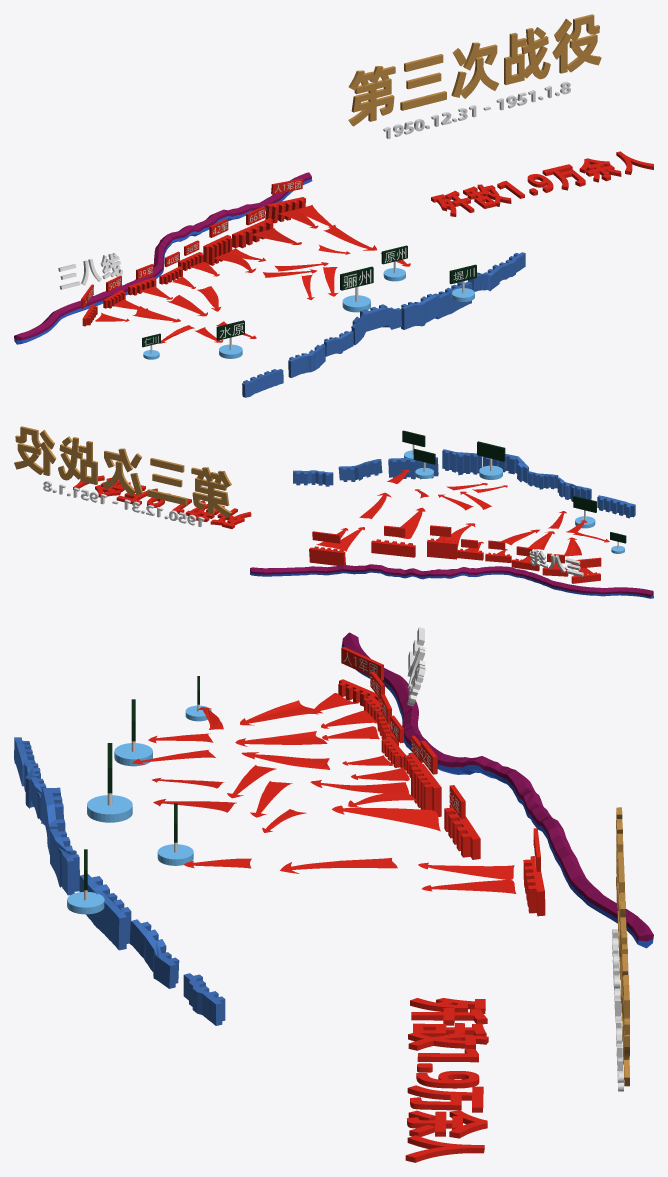
Rendered from 3-animate.glb.
The picture shows the model from 3 angles, top to bottom: view 1: azimuth 30°, elevation 25°; view 2: azimuth 150°, elevation 25°; view 3: azimuth 270°, elevation 25°; orthographic projection. The views are drawn at different scales.
Visible parts, largest first — view 1: 文本.027, 文本.019, 38line2, 文本.028, 贝塞尔曲线.040, 柱体.015, 贝塞尔曲线.041, 文本.026, 贝塞尔曲线.039, 柱体.014, 贝塞尔曲线.038, 柱体.017 (+5 smaller); view 2: 文本.027, 38line2, 文本.019, 文本.028, 贝塞尔曲线.041, 柱体.015, 贝塞尔曲线.042, 贝塞尔曲线.043, 文本.026, 贝塞尔曲线.040, 贝塞尔曲线.051, 贝塞尔曲线.052 (+11 smaller); view 3: 文本.019, 38line2, 文本.027, 贝塞尔曲线.042, 贝塞尔曲线.043, 贝塞尔曲线.041, 柱体.015, 贝塞尔曲线.044, 贝塞尔曲线.062, 贝塞尔曲线.051, 贝塞尔曲线.050, 文本.028 (+11 smaller).
Boxes of the visible parts, x1,y1,x2,y2 form: 文本.027: [348, 14, 601, 126]; 文本.019: [431, 151, 653, 216]; 38line2: [14, 172, 312, 344]; 文本.028: [383, 81, 570, 139]; 贝塞尔曲线.040: [351, 304, 401, 344]; 柱体.015: [340, 266, 373, 312]; 贝塞尔曲线.041: [401, 293, 439, 329]; 文本.026: [58, 253, 122, 289]; 贝塞尔曲线.039: [288, 344, 325, 377]; 柱体.014: [216, 320, 244, 358]; 贝塞尔曲线.038: [242, 369, 283, 397]; 柱体.017: [449, 264, 476, 301]; 文本.027: [14, 426, 231, 517]; 38line2: [250, 564, 653, 598]; 文本.019: [73, 475, 251, 528]; 文本.028: [43, 481, 204, 526]; 贝塞尔曲线.041: [442, 449, 482, 475]; 柱体.015: [477, 441, 505, 479]; 贝塞尔曲线.042: [388, 457, 438, 479]; 贝塞尔曲线.043: [338, 459, 382, 481]; 文本.026: [529, 549, 583, 576]; 贝塞尔曲线.040: [483, 454, 528, 483]; 贝塞尔曲线.051: [371, 539, 415, 557]; 贝塞尔曲线.052: [309, 546, 345, 565]; 文本.019: [405, 998, 488, 1162]; 38line2: [341, 632, 653, 948]; 文本.027: [616, 807, 629, 1086]; 贝塞尔曲线.042: [79, 874, 131, 950]; 贝塞尔曲线.043: [129, 919, 179, 988]; 贝塞尔曲线.041: [49, 829, 79, 895]; 柱体.015: [87, 743, 132, 822]; 贝塞尔曲线.044: [183, 973, 225, 1025]; 贝塞尔曲线.062: [332, 805, 440, 831]; 贝塞尔曲线.051: [444, 804, 480, 859]; 贝塞尔曲线.050: [411, 764, 441, 816]; 文本.028: [612, 929, 623, 1091].
Size of what is drawn, in the model's own units: 52.62 by 8.77 by 26.94.
